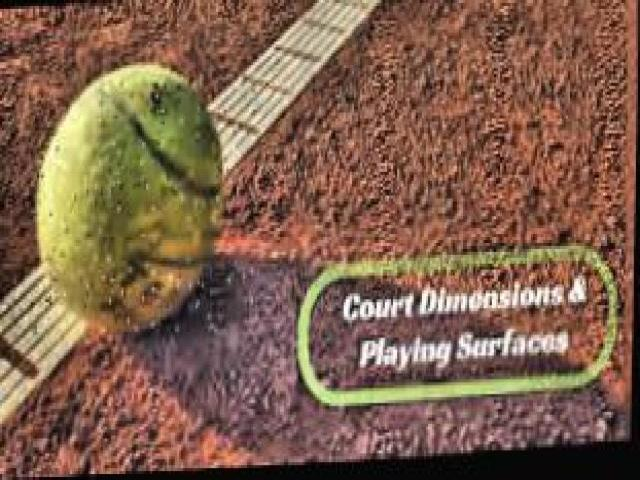tennis-ball: (34, 68, 225, 335)
